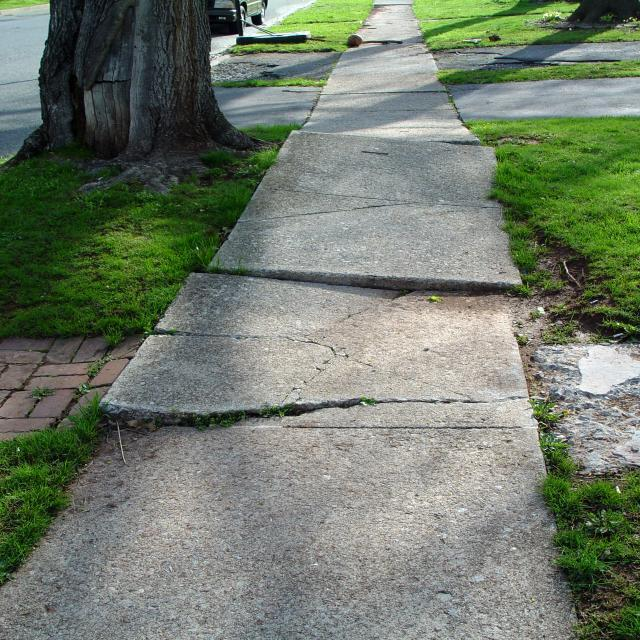bump: (218, 241, 560, 316), (78, 388, 323, 450)
